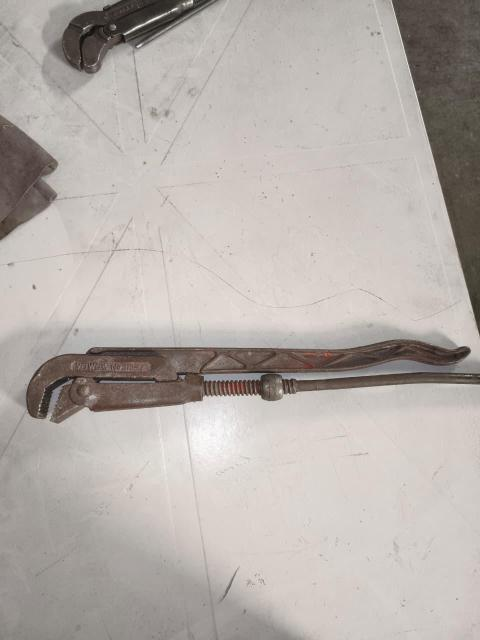Metal: (32, 335, 480, 422), (57, 2, 213, 73)
